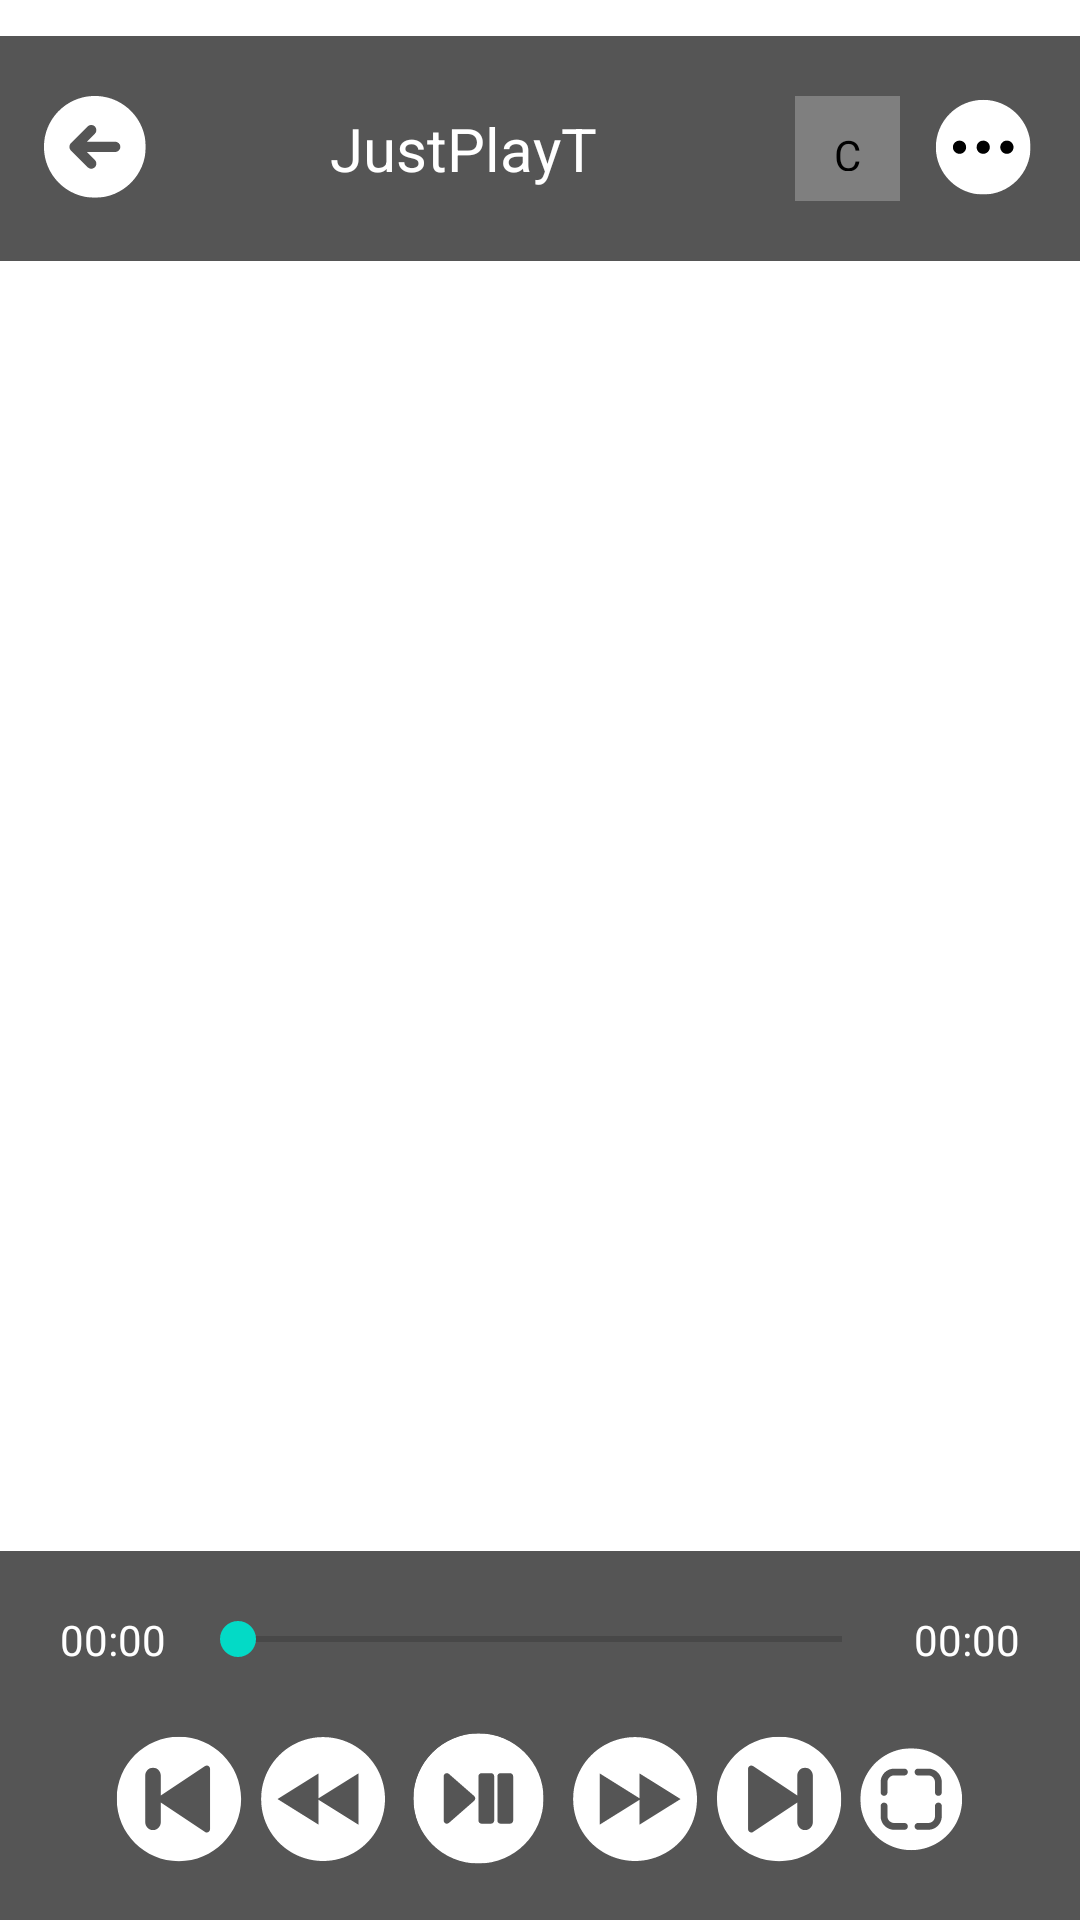

Named icons in this screenshot (1080x1920) and their bounding boxes, Rect(x1, y1, x2, y2):
Back: Rect(44, 96, 146, 198)
Forward: Rect(573, 1737, 697, 1861)
Fullscreen: Rect(860, 1748, 962, 1850)
More options: Rect(936, 100, 1031, 195)
Next: Rect(717, 1737, 841, 1862)
Play/Pause: Rect(413, 1733, 544, 1864)
Previous: Rect(117, 1737, 241, 1862)
Rewind: Rect(261, 1737, 385, 1861)
